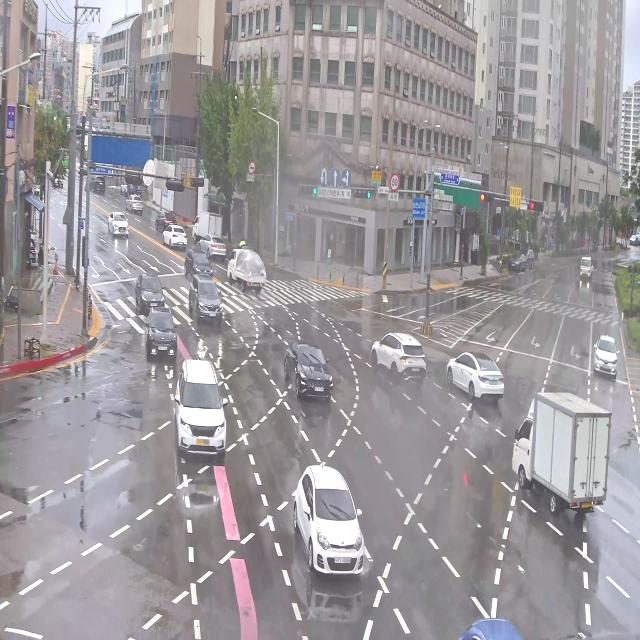Car: (276, 442, 374, 604), (167, 353, 228, 476), (441, 328, 506, 419), (275, 315, 335, 408), (362, 321, 430, 395), (136, 298, 187, 374), (186, 268, 232, 338), (591, 317, 627, 380), (132, 264, 169, 323), (181, 248, 215, 293), (103, 206, 135, 251), (161, 218, 191, 260), (196, 230, 229, 266), (152, 207, 175, 233), (507, 250, 526, 276), (89, 171, 108, 197), (124, 193, 142, 220), (522, 244, 536, 270), (118, 176, 128, 196)
Truck: (503, 375, 614, 549), (227, 225, 279, 302), (188, 210, 224, 248), (578, 253, 598, 294), (126, 180, 142, 201)
